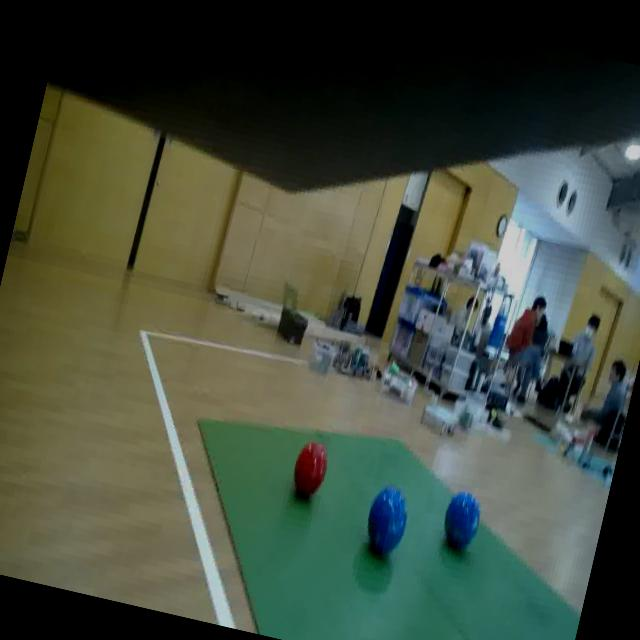blue_ball: (358, 476, 416, 564), (433, 480, 489, 564)
red_ball: (286, 430, 334, 506)
